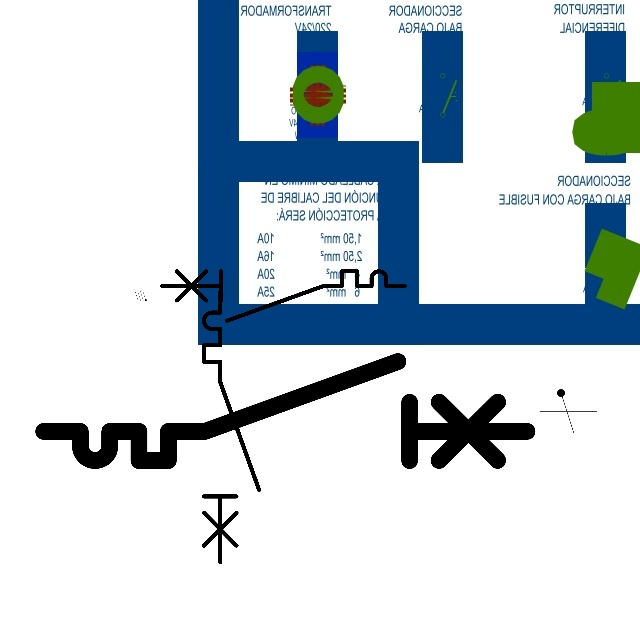interruptor_termomagnetico: (31, 349, 539, 473), (197, 285, 266, 569), (155, 265, 410, 327)
